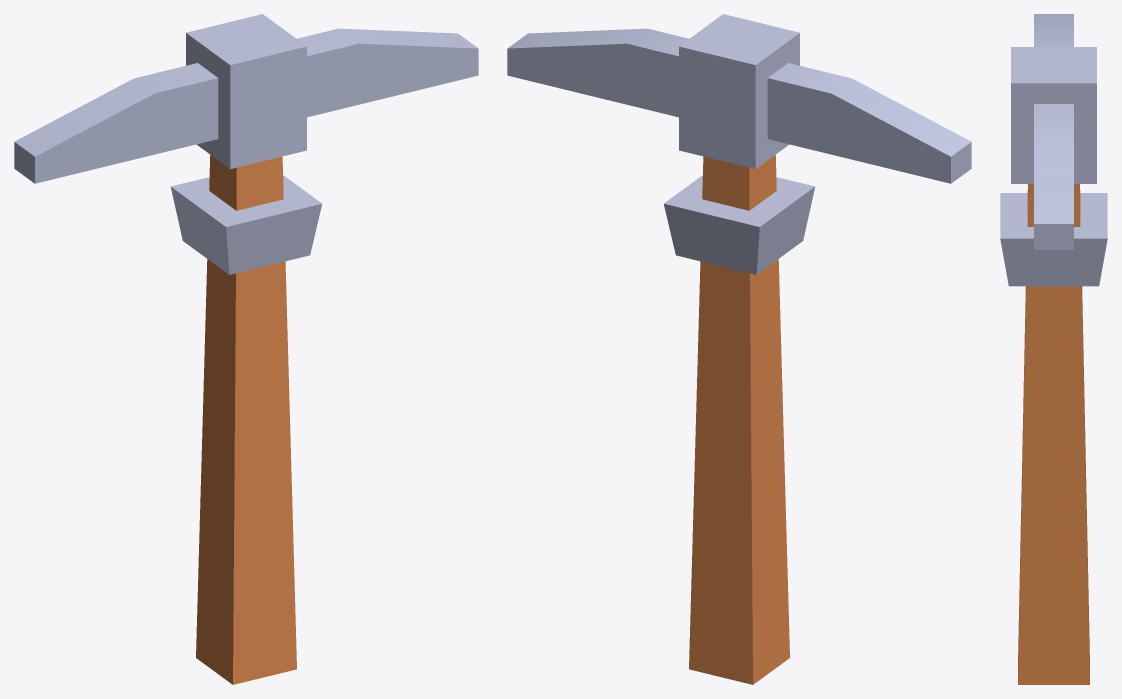
File: toolPickaxe.obj
The picture shows the model from 3 angles, left to right: view 1: azimuth 30°, elevation 25°; view 2: azimuth 150°, elevation 25°; view 3: azimuth 270°, elevation 25°; orthographic projection. The views are drawn at different scales.
Parts seen in each view (by area): view 1: toolPickaxe; view 2: toolPickaxe; view 3: toolPickaxe.
Part boxes in pixels (left/top/right/bottom): toolPickaxe: left=14, top=14, right=478, bottom=684; toolPickaxe: left=507, top=14, right=971, bottom=684; toolPickaxe: left=1000, top=14, right=1107, bottom=684.
Size of the model in its own units: 0.1786 by 0.24 by 0.0387.
